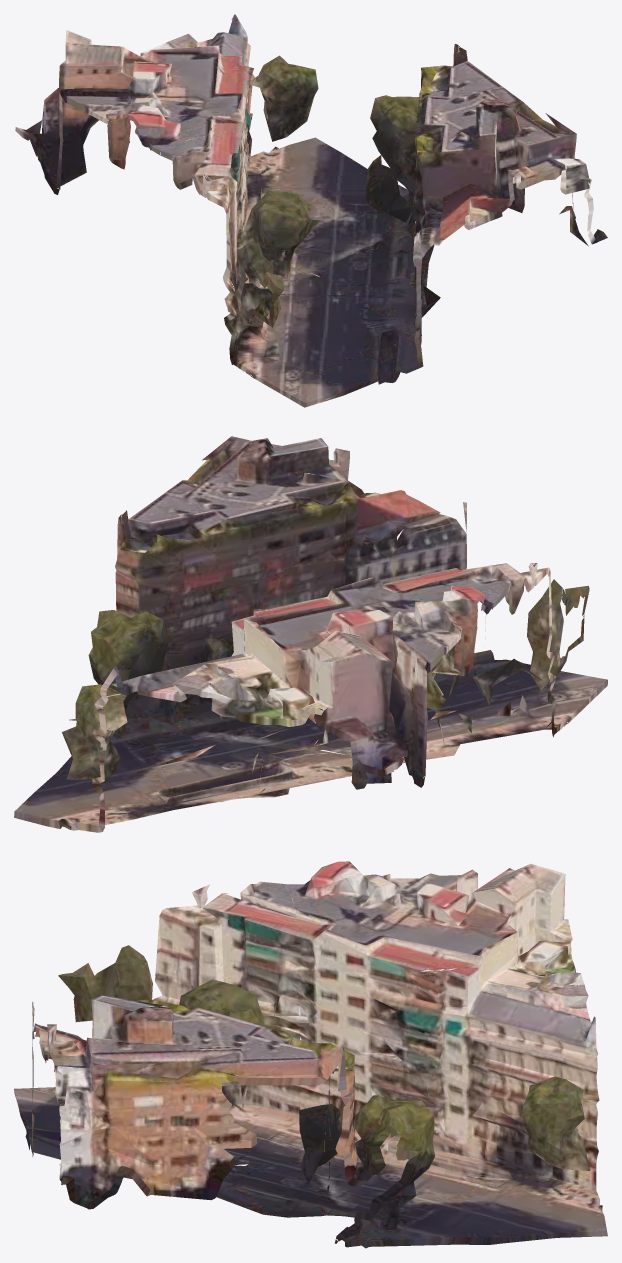
3 views of the same model, one above another, from view 1: azimuth 30°, elevation 25°; view 2: azimuth 150°, elevation 25°; view 3: azimuth 270°, elevation 25° (orthographic). The views are drawn at different scales.
Parts seen in each view (by area): view 1: Mesh_0; view 2: Mesh_0; view 3: Mesh_0.
Boxes of the visible parts, bbox=[...] form: Mesh_0: bbox=[15, 14, 607, 407]; Mesh_0: bbox=[14, 436, 607, 832]; Mesh_0: bbox=[14, 861, 607, 1248].
Size of the model in its own units: 67.5 by 35.83 by 82.55.
Materials: 1 (1 with a texture image).
